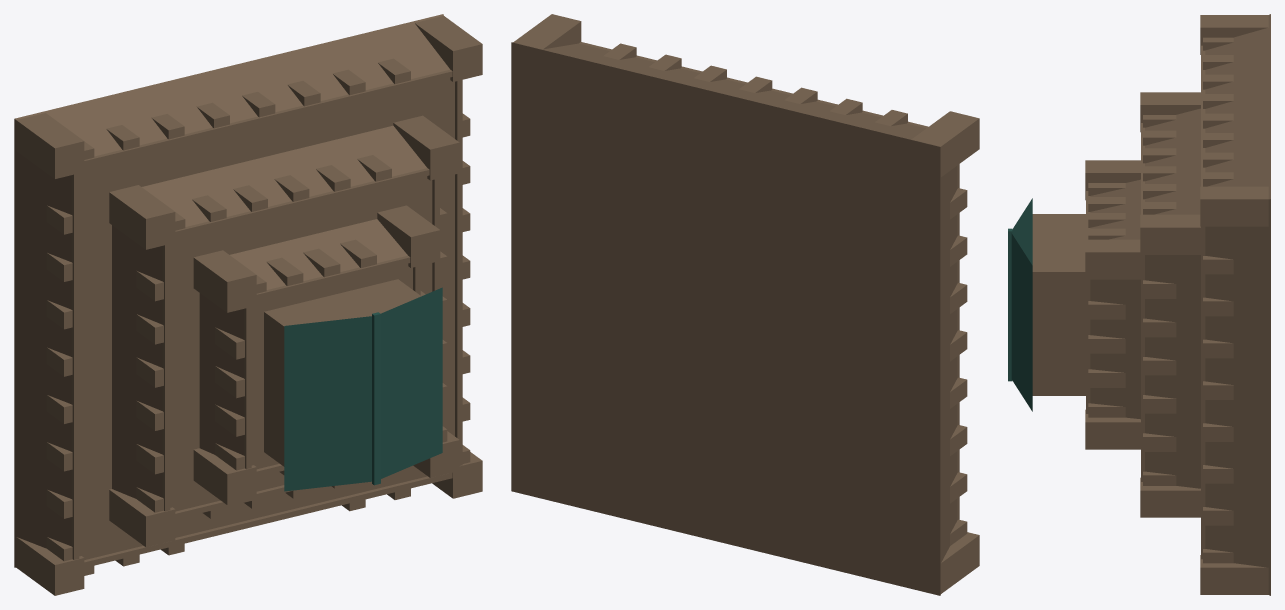
The model's file is SM_Ziggurat_Base.obj.
The picture shows the model from 3 angles, left to right: view 1: azimuth 30°, elevation 25°; view 2: azimuth 150°, elevation 25°; view 3: azimuth 270°, elevation 25°; orthographic projection. The views are drawn at different scales.
Parts seen in each view (by area): view 1: Mudbrick_Geometry, PatinaBronze_Geometry; view 2: Mudbrick_Geometry; view 3: Mudbrick_Geometry, PatinaBronze_Geometry.
Part boxes in pixels (<box>): Mudbrick_Geometry: <box>14,14,482,595</box>; PatinaBronze_Geometry: <box>284,287,442,491</box>; Mudbrick_Geometry: <box>511,14,979,595</box>; Mudbrick_Geometry: <box>1032,14,1270,595</box>; PatinaBronze_Geometry: <box>1008,198,1032,411</box>.
Bounding box in the file's own units: 3200 × 3200 × 1920.
